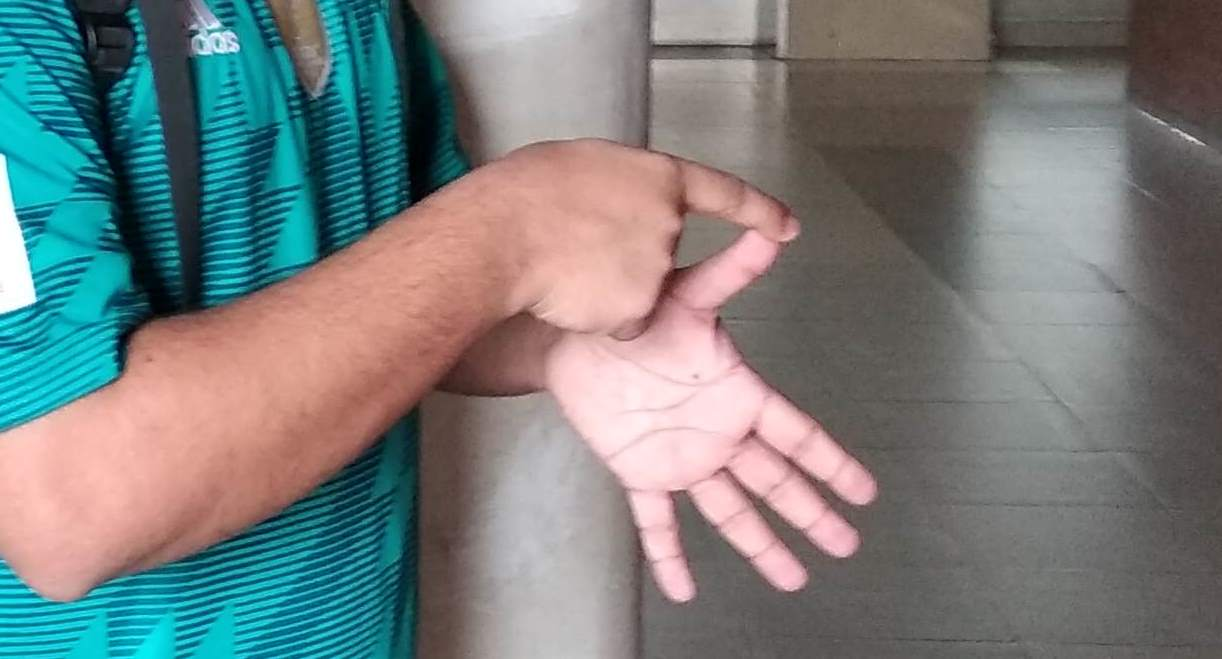a: (559, 155, 878, 608)
